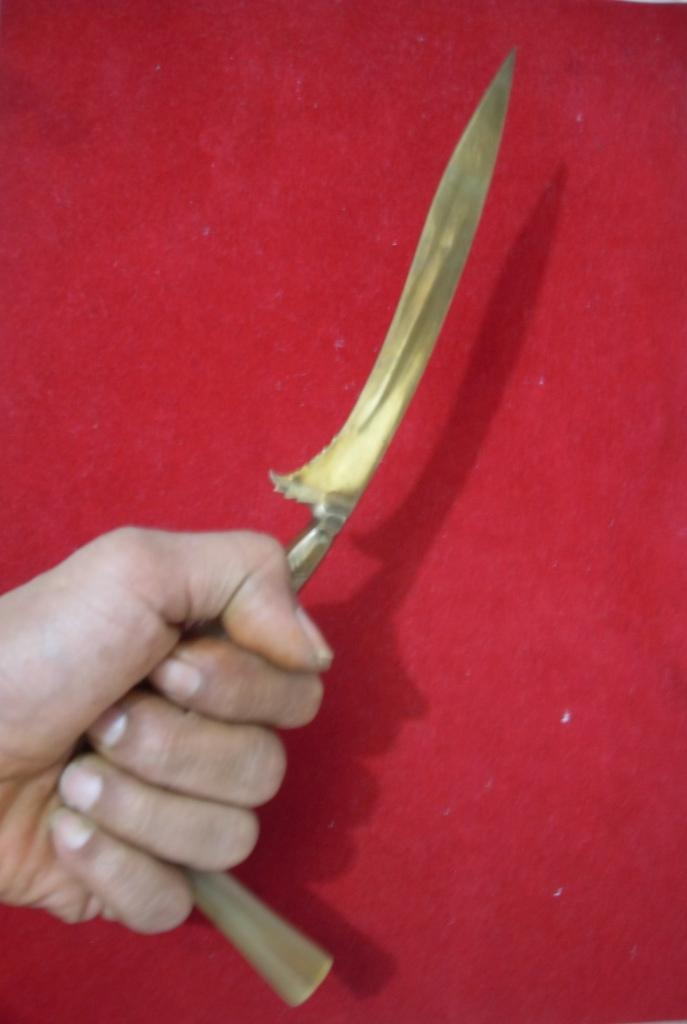faca: (271, 53, 513, 591)
